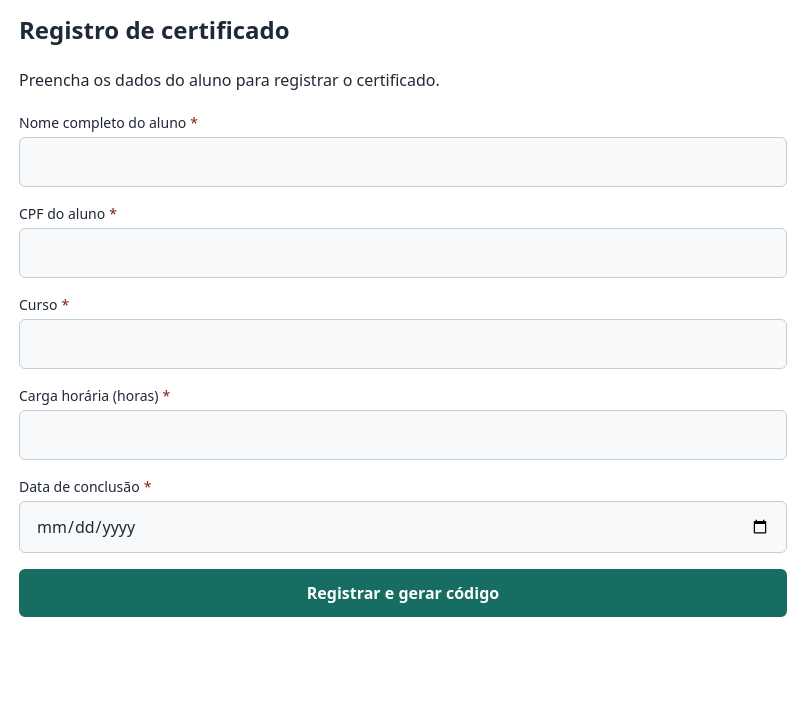
it: RegistroPage › valida nome completo, dígitos do CPF, inteiro positivo e data existente
Step 1. Type "Ana" into the field labelled "Nome completo do aluno" → (403, 162), box [19, 137, 787, 187]
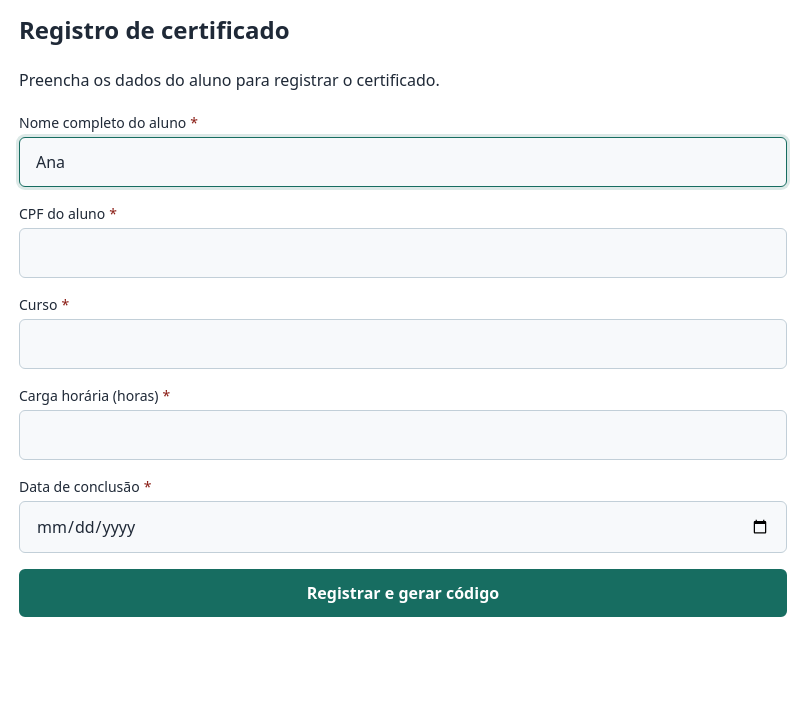
Step 2. Type "11111111111" into the field labelled "CPF do aluno" → (403, 253), box [19, 228, 787, 278]
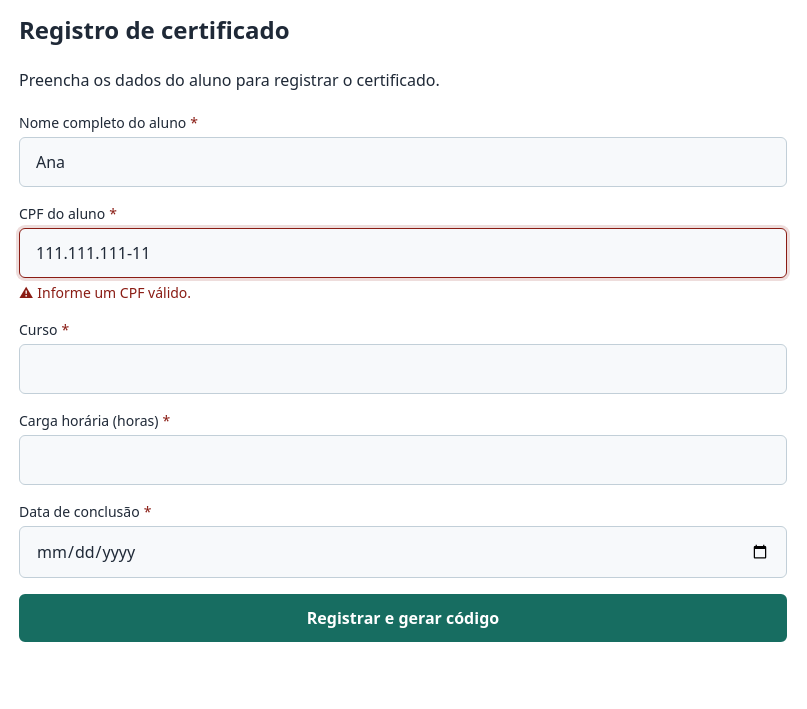
Step 3. Type "Curso" into the field labelled "Curso" → (403, 369), box [19, 344, 787, 394]
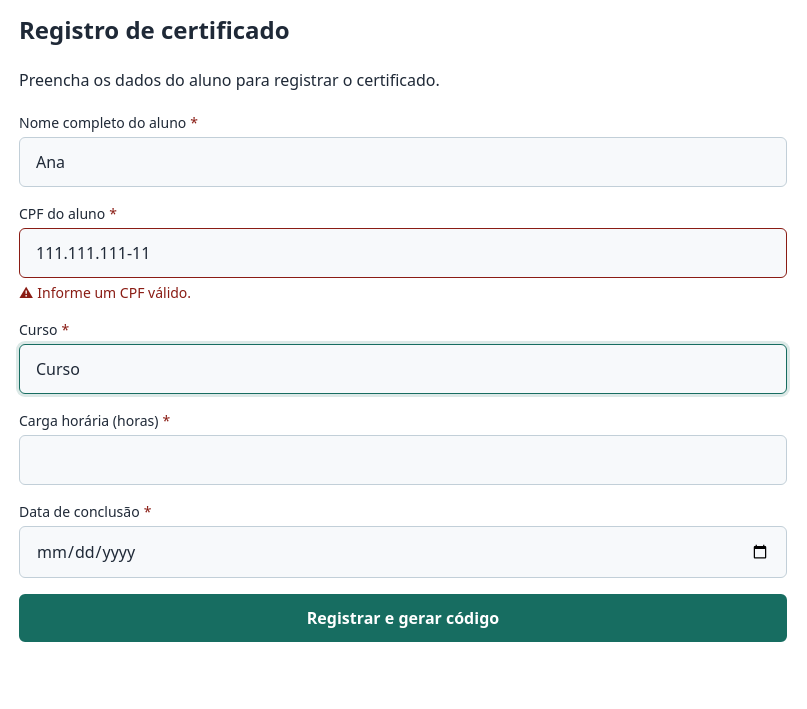
Step 4. Type "0" into the number field labelled "Carga horária (horas)" → (403, 460), box [19, 435, 787, 485]
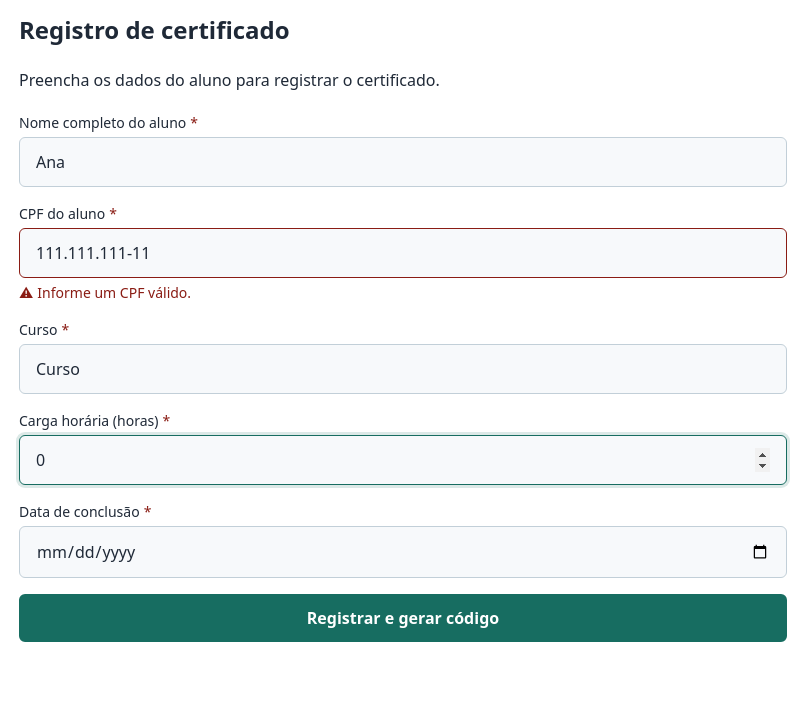
Step 5. Type "2026-02-28" into the date field labelled "Data de conclusão*" → (403, 552), box [19, 526, 787, 578]
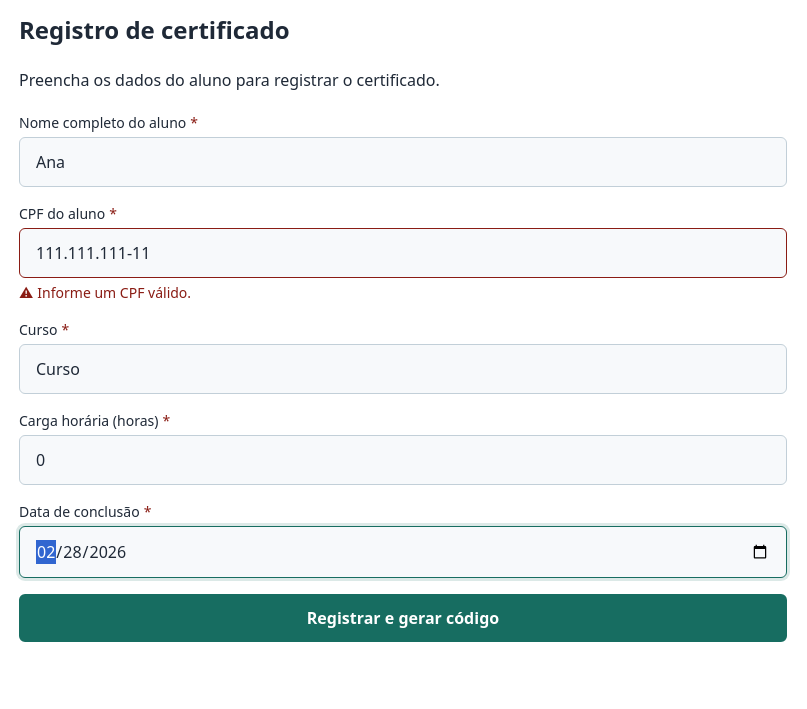
Step 6. Click the button "Registrar e gerar código" → (403, 618), box [19, 594, 787, 642]
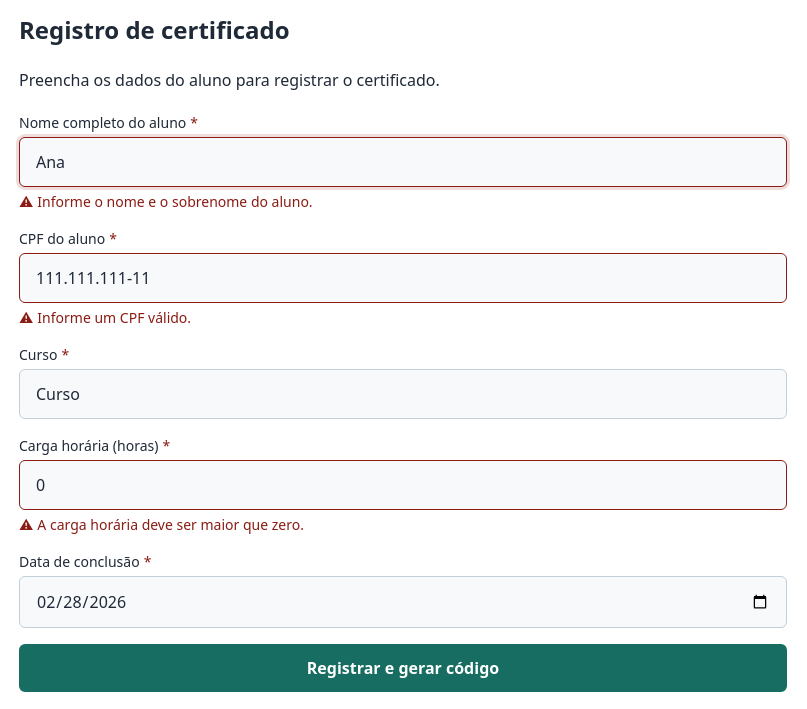
Expected: the text "Informe um CPF válido." is shown, [37, 308, 191, 327]
Expected: the text "Informe o nome e o sobrenome do aluno." is shown, [37, 192, 313, 211]
Expected: the text "A carga horária deve ser maior que zero." is shown, [37, 515, 304, 534]
